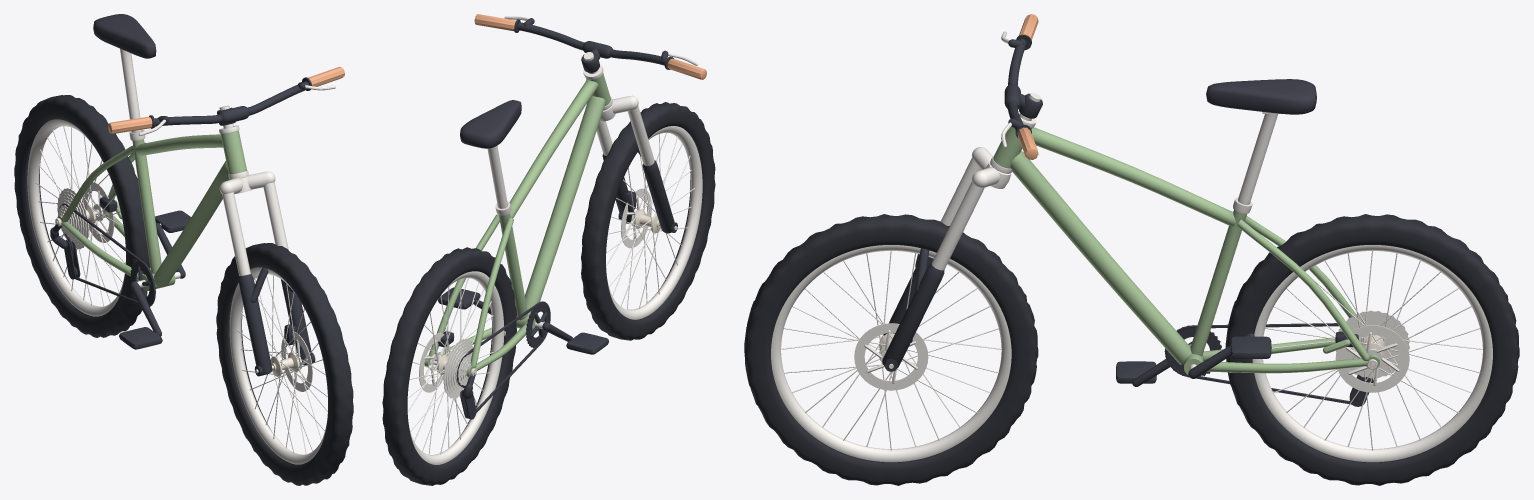
File: mountain_bike.glb
3 renders of one model, left to right at view 1: azimuth 30°, elevation 25°; view 2: azimuth 150°, elevation 25°; view 3: azimuth 270°, elevation 25°, orthographic. The views are drawn at different scales.
Parts seen in each view (by area): view 1: mountain-bike_wheel_front, mountain-bike_wheel_rear, mountain-bike_body, mountain-bike_steering, mountain-bike_crank; view 2: mountain-bike_wheel_rear, mountain-bike_wheel_front, mountain-bike_body, mountain-bike_steering, mountain-bike_crank; view 3: mountain-bike_wheel_rear, mountain-bike_wheel_front, mountain-bike_body, mountain-bike_steering, mountain-bike_crank.
Boxes of the visible parts, x1,y1,x2,y2 form: mountain-bike_wheel_front: (216,243,353,485); mountain-bike_wheel_rear: (14,95,150,337); mountain-bike_body: (50,14,248,306); mountain-bike_steering: (108,66,344,376); mountain-bike_crank: (119,210,191,349); mountain-bike_wheel_rear: (382,247,516,485); mountain-bike_wheel_front: (581,102,715,340); mountain-bike_body: (424,64,612,419); mountain-bike_steering: (474,14,706,233); mountain-bike_crank: (438,287,608,354); mountain-bike_wheel_rear: (1225,214,1519,485); mountain-bike_wheel_front: (744,214,1038,485); mountain-bike_body: (990,79,1379,406); mountain-bike_steering: (882,14,1042,371); mountain-bike_crank: (1116,325,1271,386).
Bounding box in the file's own units: 0.78 × 1.08 × 1.88.
Materials: 15 (1 with a texture image).
